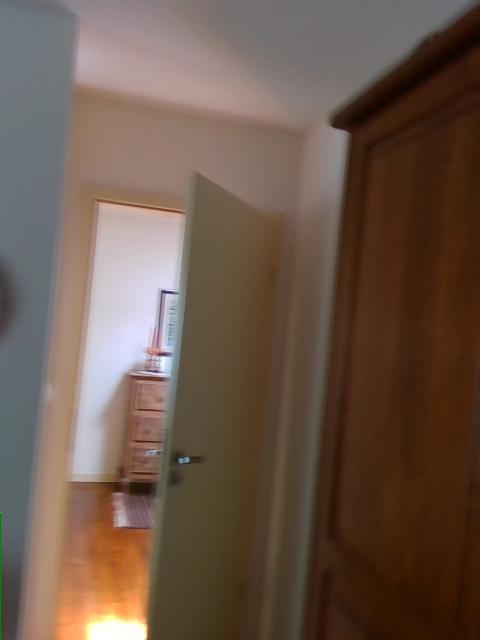semi_door: (34, 167, 288, 639)
